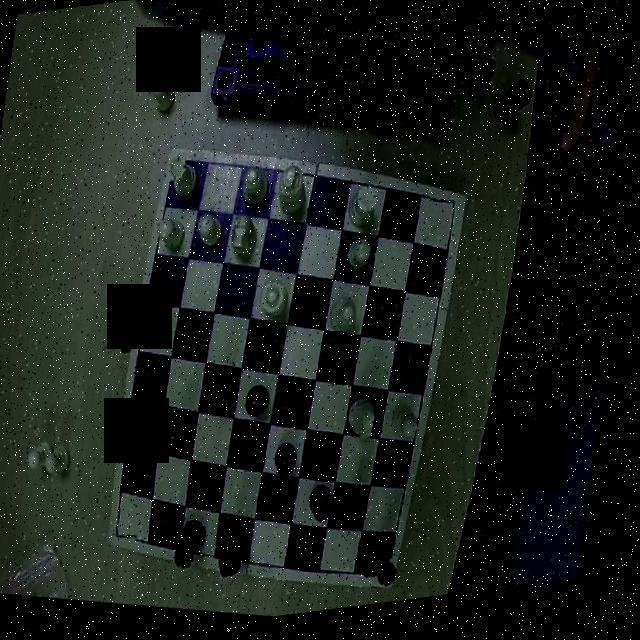chess-table-corners: (429, 196, 468, 236), (168, 152, 205, 189), (371, 560, 407, 598), (116, 519, 148, 554)
